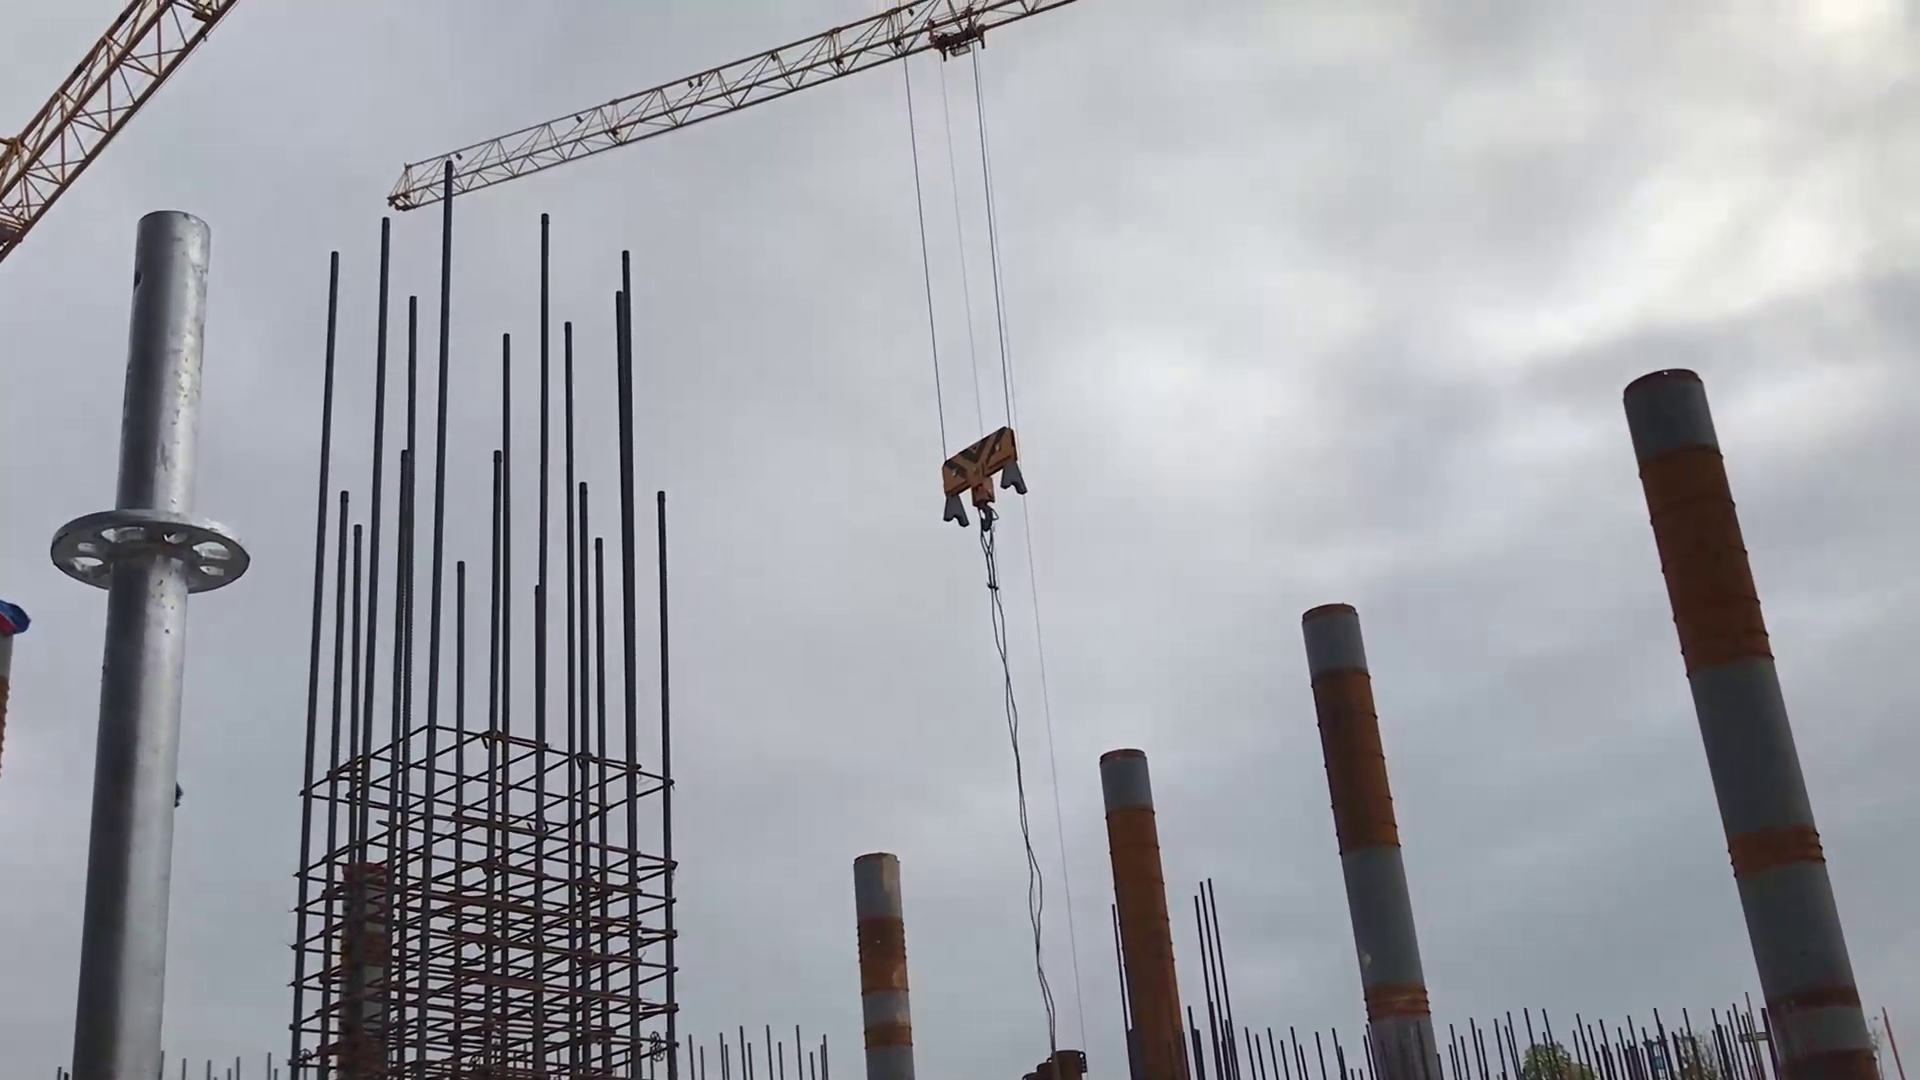hook: (922, 425, 1034, 555)
